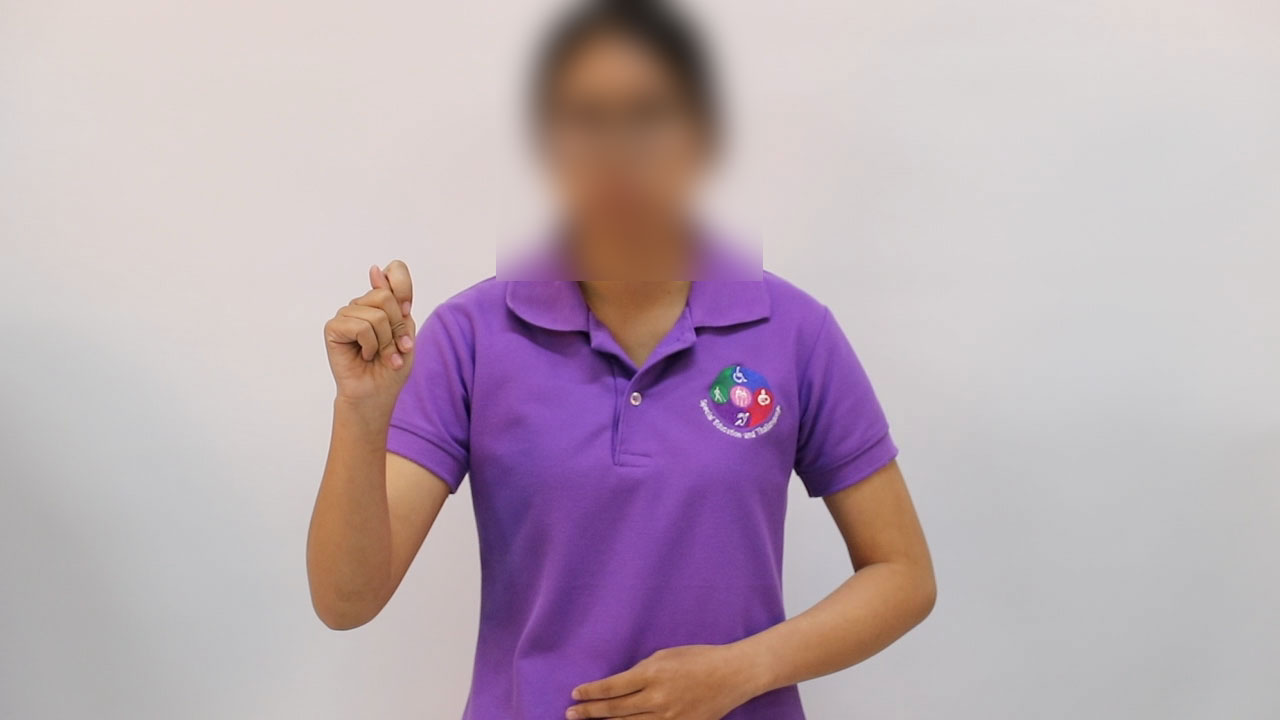tor: (292, 243, 449, 433)
